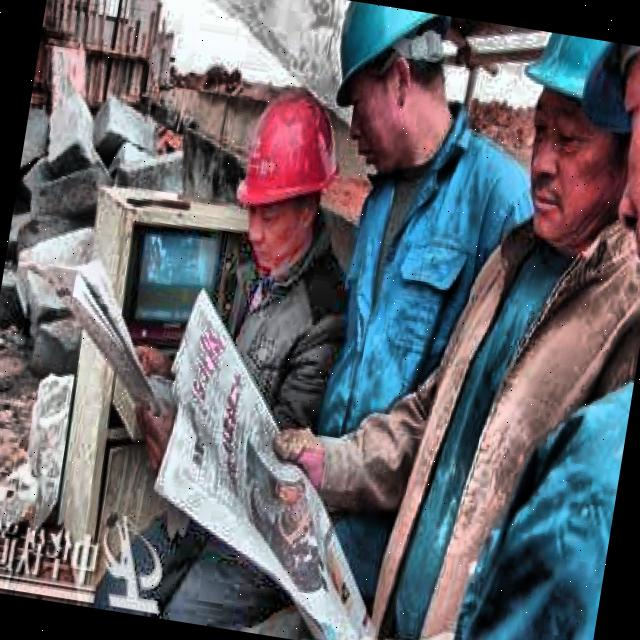helmet: (309, 1, 479, 206), (491, 31, 640, 253), (218, 70, 358, 280), (546, 39, 640, 290)
